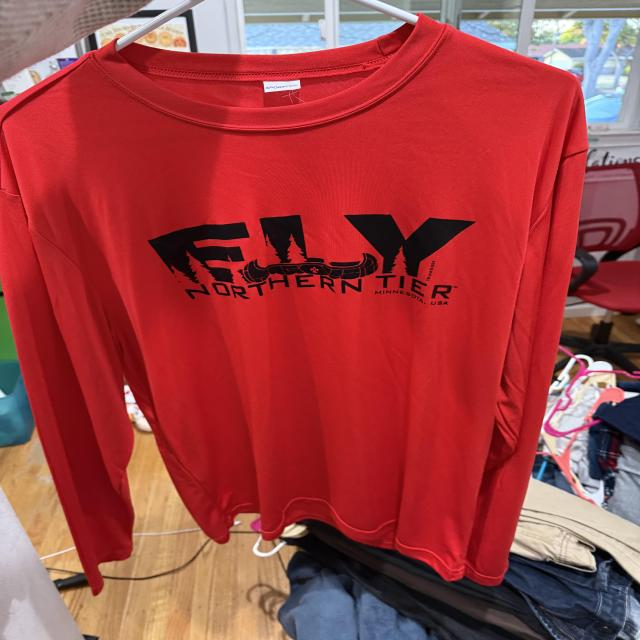back_tag: (260, 78, 308, 96)
